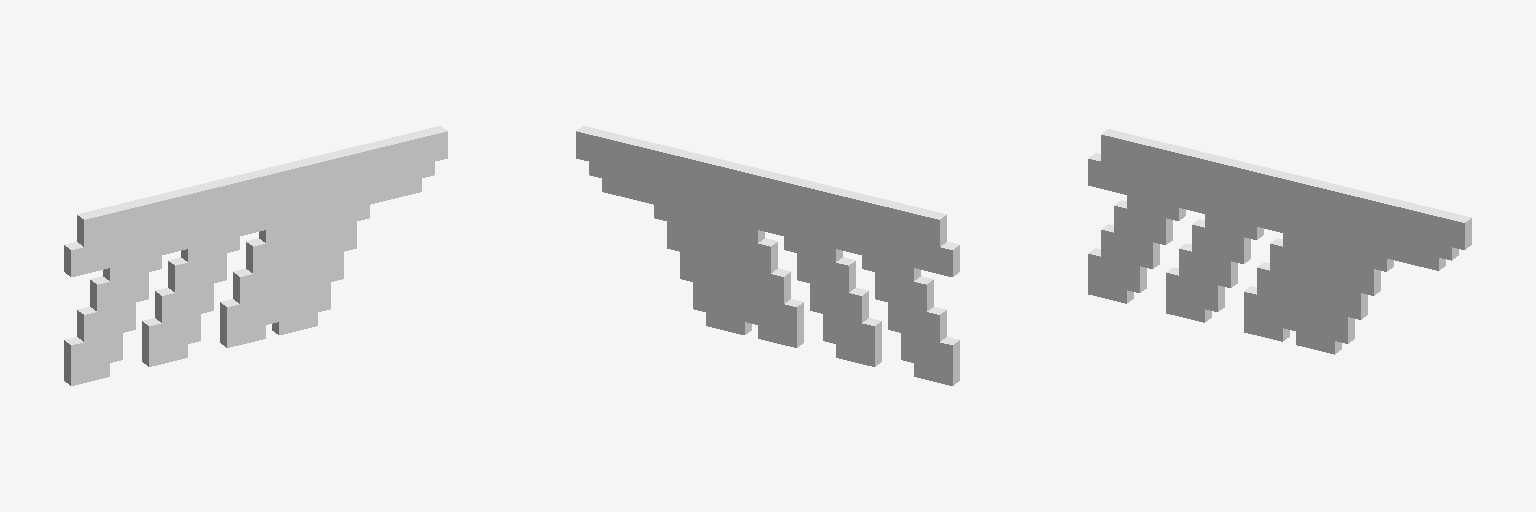
Rendered from tta-sign.obj.
3 renders of one model, left to right at view 1: azimuth 30°, elevation 25°; view 2: azimuth 150°, elevation 25°; view 3: azimuth 330°, elevation 25°, orthographic.
Parts seen in each view (by area): view 1: object 1; view 2: object 1; view 3: object 1.
Part boxes in pixels (x1,y1,x2,y2): object 1: (64,126,447,385); object 1: (576,126,959,385); object 1: (1088,129,1471,354).
Bounding box in the file's own units: 2.9 × 1.2 × 0.1.